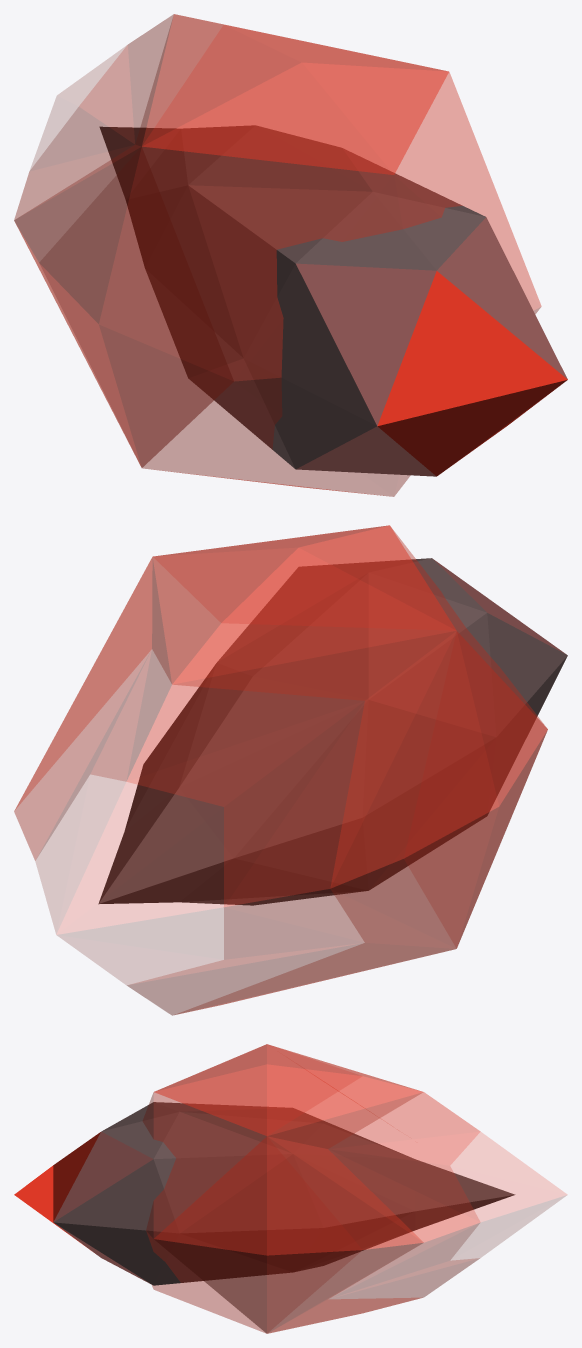
The model's file is blob_range_projectile.glb.
3 views of the same model, one above another, from view 1: azimuth 30°, elevation 25°; view 2: azimuth 150°, elevation 25°; view 3: azimuth 270°, elevation 25° (orthographic). The views are drawn at different scales.
Bounding box in the file's own units: 65.99 × 66 × 127.
Materials: 2 (2 with a texture image).
